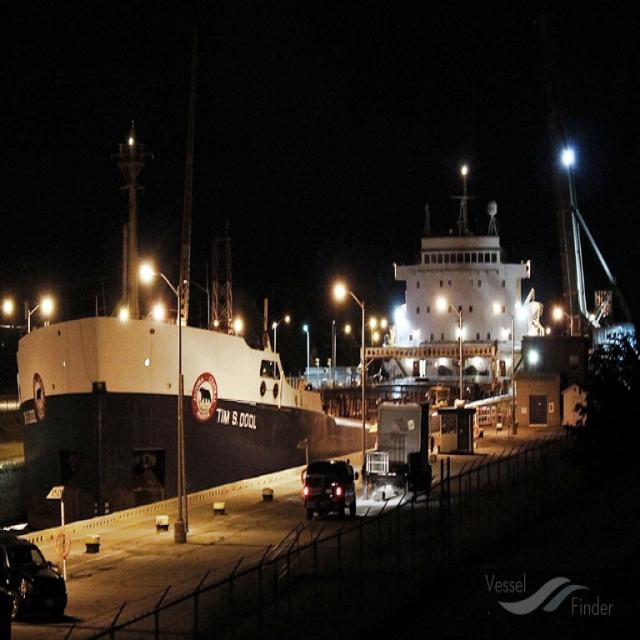OCR: (216, 399, 256, 435)
